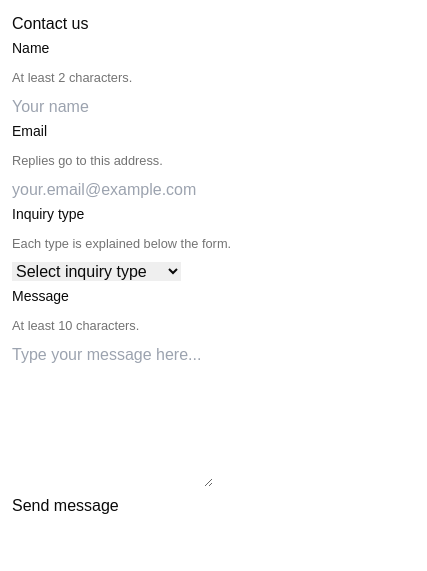
ContactUs › keeps the form and reports the server's reason for a failed send in the reader's words
Type "Verify Run" into the field labelled "Name". click: x=116, y=107
box: [12,95,219,119]
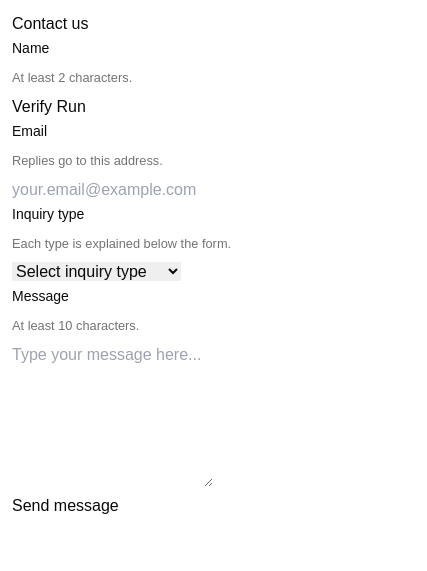
Type "verify@example.com" into the field labelled "Email". click: x=116, y=190
box: [12,178,219,202]
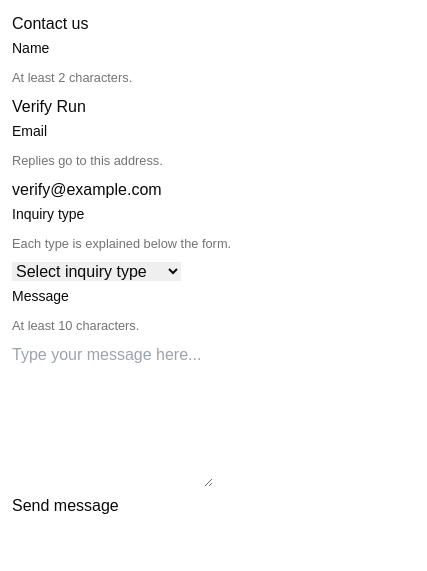
Select "Feedback" in the dropdown labelled "Inquiry type". click: x=96, y=271
box: [12,262,181,281]
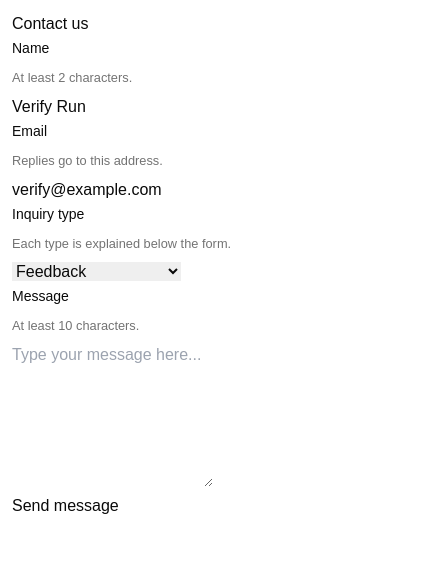
Type "verification probe, please ignore" into the text box labelled "Message". click: x=112, y=415
box: [12,343,213,487]
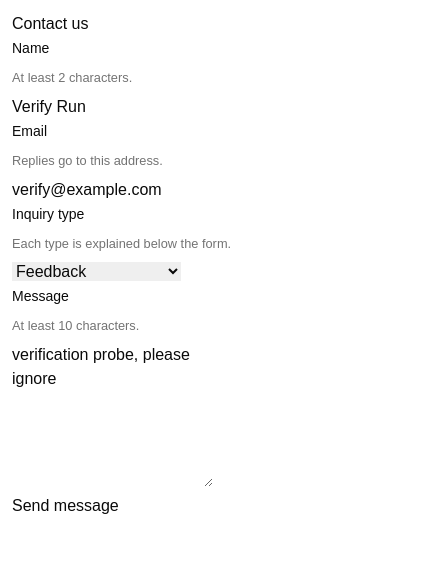
Click the button "Send message". click: x=65, y=506
box: [12,494,119,518]
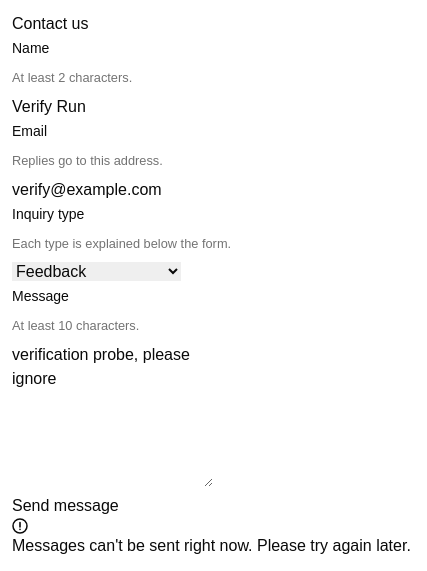
Expected: the message reads "Messages can't be sent right now. Please try again later.", [12,537,411,554]
